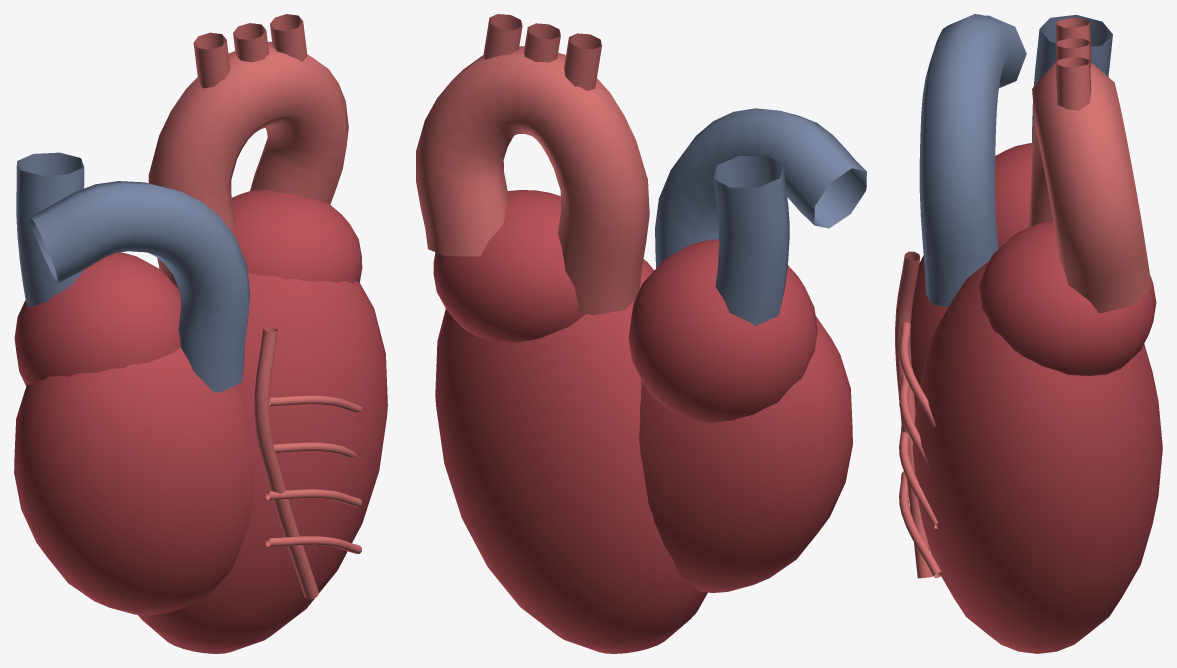
Rendered from heart.glb.
The picture shows the model from 3 angles, left to right: view 1: azimuth 30°, elevation 25°; view 2: azimuth 150°, elevation 25°; view 3: azimuth 270°, elevation 25°; orthographic projection. The views are drawn at different scales.
Visible parts, largest first — view 1: Left ventricle; view 2: Left ventricle; view 3: Left ventricle.
Part boxes in pixels (x1,y1,x2,y2): Left ventricle: (14,14,387,653); Left ventricle: (416,14,866,653); Left ventricle: (895,14,1162,653).
Size of the model in its own units: 1.39 by 2.15 by 0.8343.
